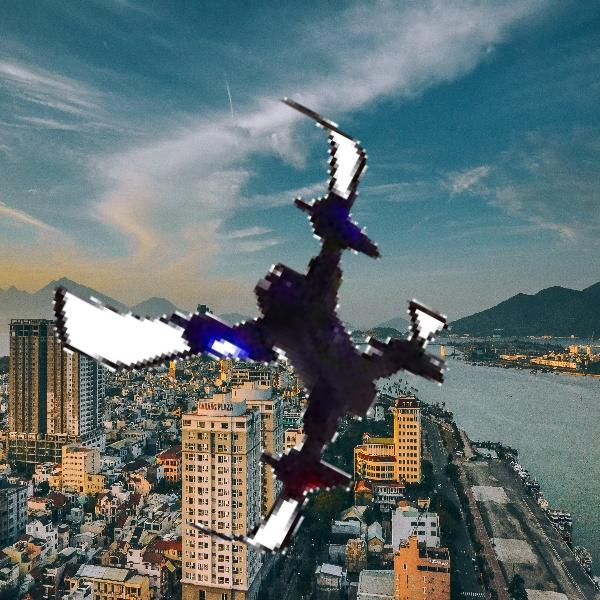drone: (21, 85, 475, 539)
